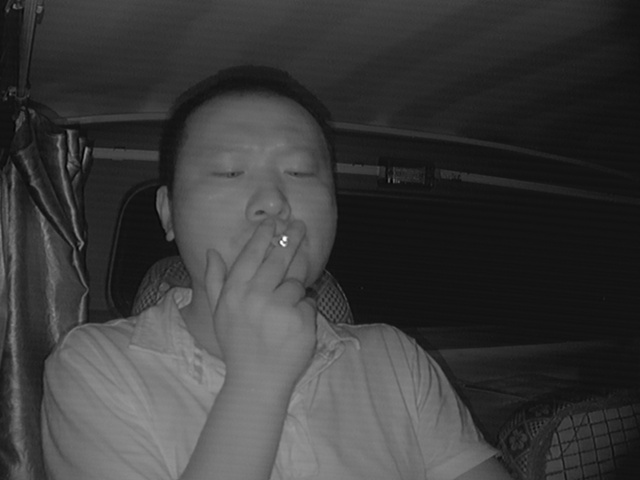hand: (218, 223, 322, 341)
